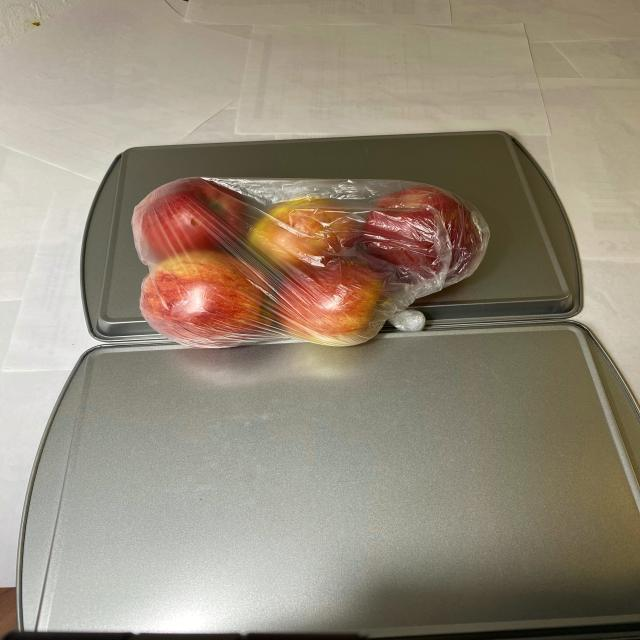apple: (132, 175, 492, 344)
